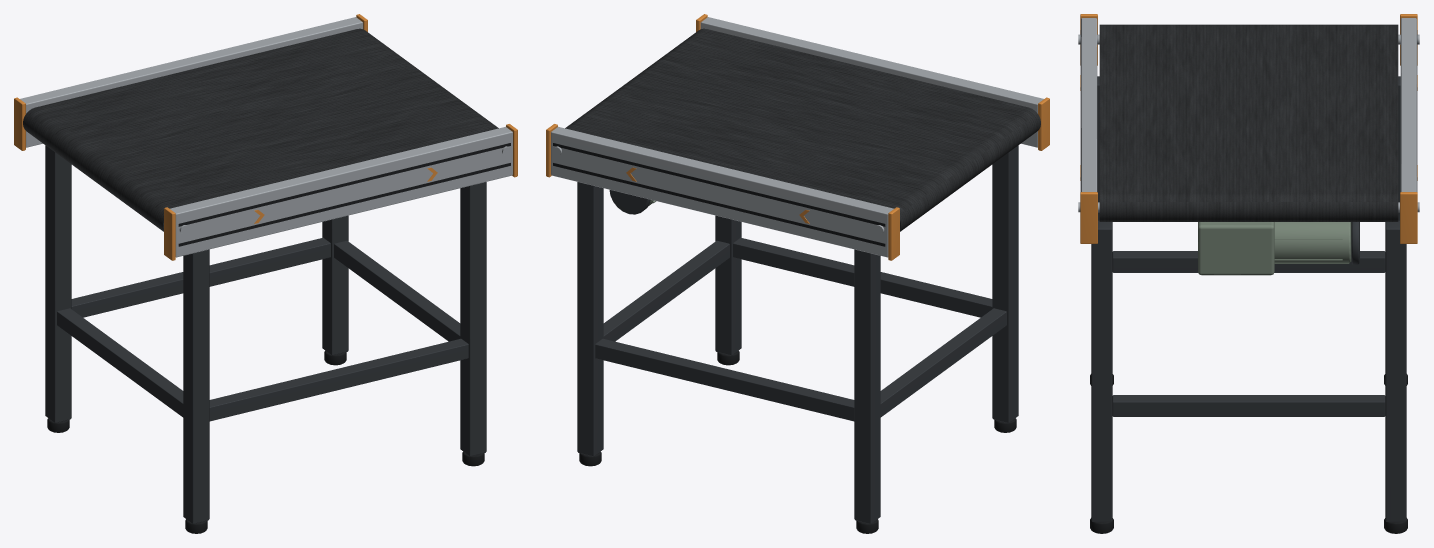
File: Band01_1m.fbx
The picture shows the model from 3 angles, left to right: view 1: azimuth 30°, elevation 25°; view 2: azimuth 150°, elevation 25°; view 3: azimuth 270°, elevation 25°; orthographic projection. The views are drawn at different scales.
Visible parts, largest first — view 1: Band01_1m__BeltRubber, Band01_1m__SteelDark, Band01_1m__BareSteel, Band01_1m__Black, Band01_1m__SafetyOrange; view 2: Band01_1m__BeltRubber, Band01_1m__SteelDark, Band01_1m__BareSteel, Band01_1m__Black, Band01_1m__SafetyOrange; view 3: Band01_1m__BeltRubber, Band01_1m__SteelDark, Band01_1m__SteelGreen, Band01_1m__BareSteel, Band01_1m__SafetyOrange, Band01_1m__Black.
Boxes of the visible parts, box(x1,y1,x2,y2) form: Band01_1m__BeltRubber: box(23, 28, 498, 231); Band01_1m__SteelDark: box(45, 145, 486, 523); Band01_1m__BareSteel: box(20, 17, 512, 257); Band01_1m__Black: box(47, 143, 510, 533); Band01_1m__SafetyOrange: box(14, 14, 517, 260); Band01_1m__BeltRubber: box(565, 28, 1040, 231); Band01_1m__SteelDark: box(577, 145, 1018, 523); Band01_1m__BareSteel: box(551, 17, 1043, 257); Band01_1m__Black: box(553, 143, 1016, 533); Band01_1m__SafetyOrange: box(546, 14, 1049, 260); Band01_1m__BeltRubber: box(1099, 24, 1398, 221); Band01_1m__SteelDark: box(1091, 76, 1406, 521); Band01_1m__SteelGreen: box(1198, 222, 1351, 275); Band01_1m__BareSteel: box(1078, 18, 1419, 212); Band01_1m__SafetyOrange: box(1080, 14, 1417, 243); Band01_1m__Black: box(1080, 30, 1417, 533).
Bounding box in the file's own units: 100 × 91.6 × 80.
6 materials, 1 textured.
